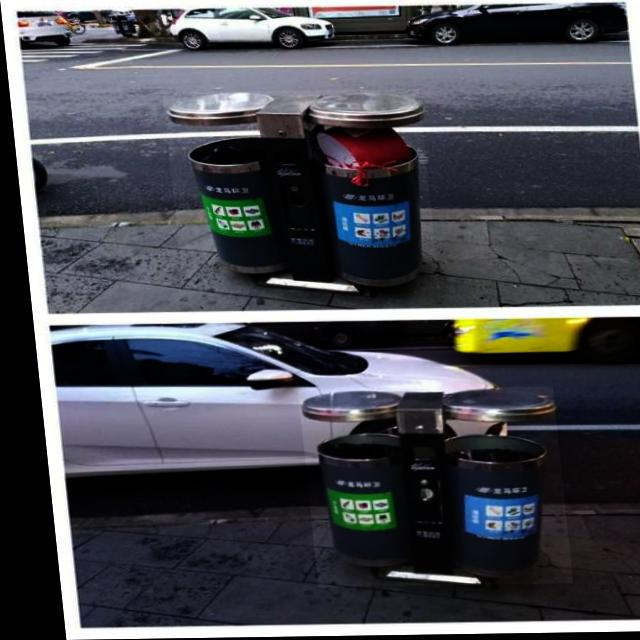garbage_bin: (289, 388, 560, 588)
overflow: (161, 90, 434, 294)
